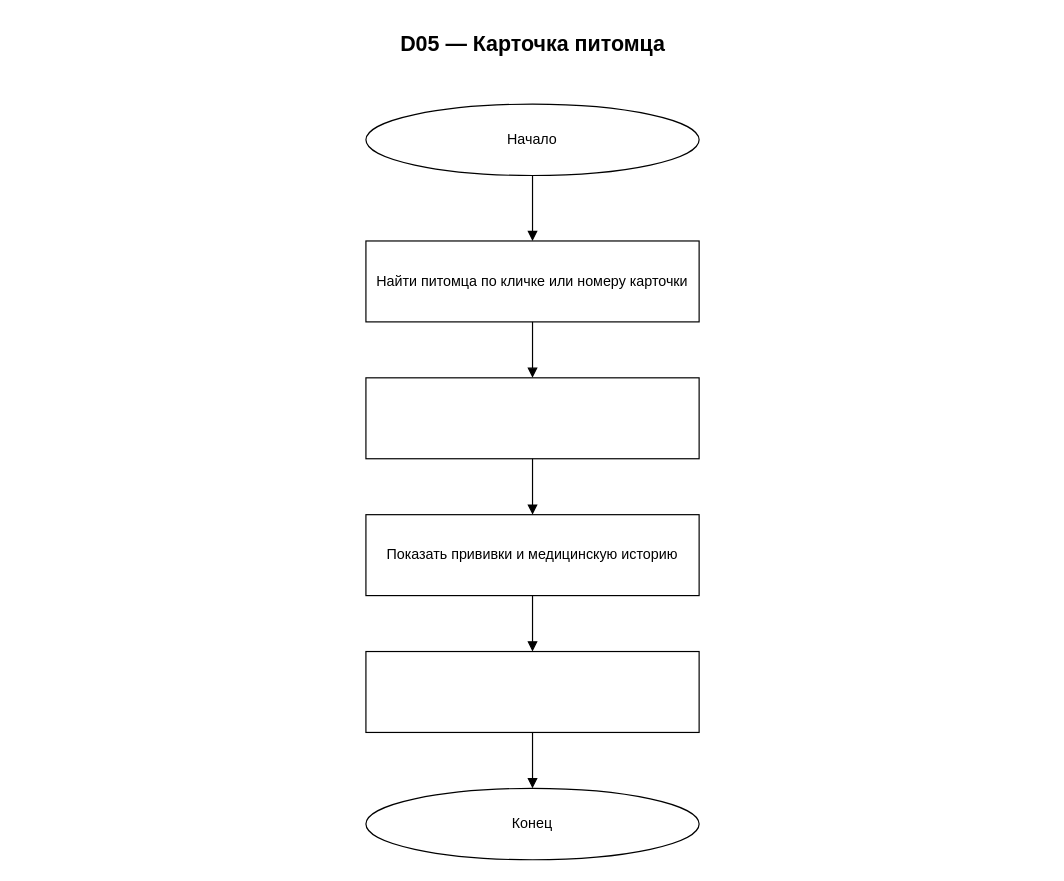
This 1064x881 diagram has some shape labels left out. Here are the shapes that lost their labels. From the top down, the centre of each, then its label:
pixel 532 418: Загрузить сведения о питомце и владельце
pixel 532 691: Показать назначения и ближайшие приёмы
